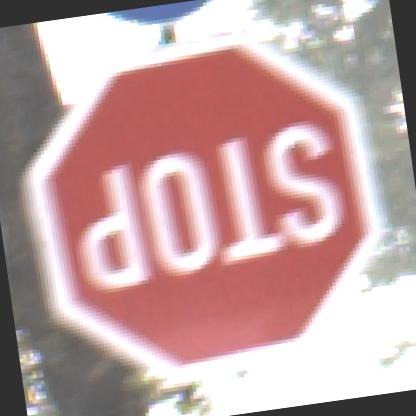stop: (0, 0, 412, 409)
